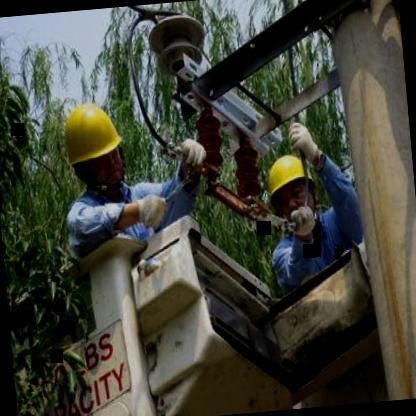helmet: (54, 92, 132, 199), (260, 148, 320, 232)
